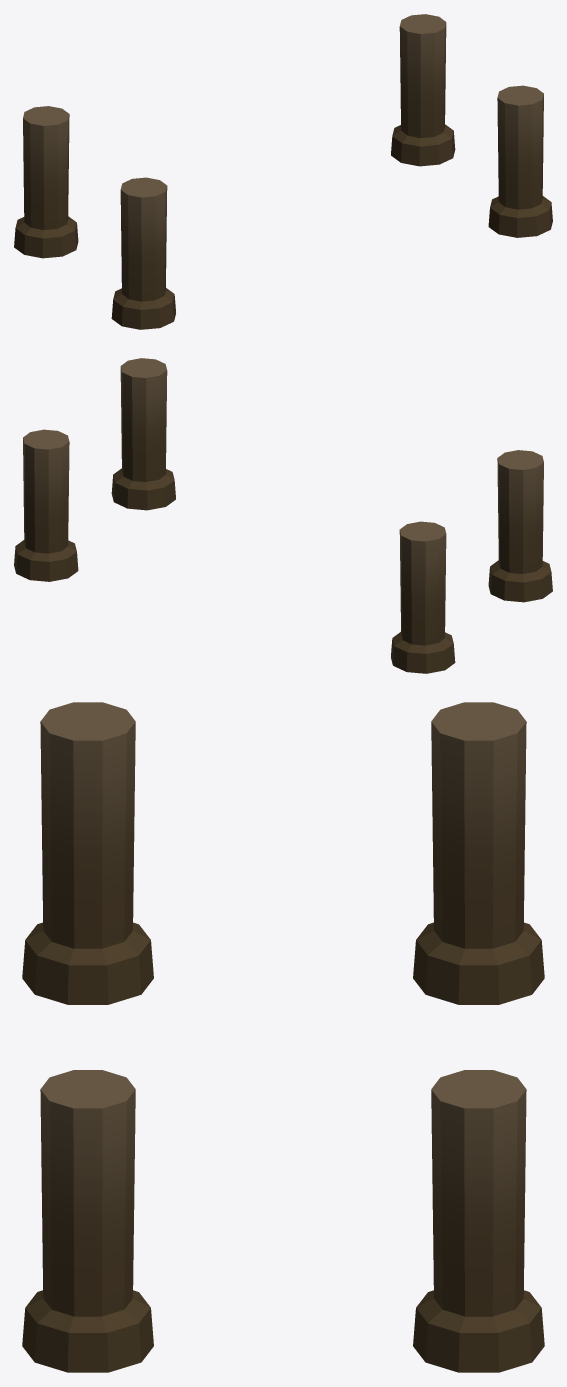
File: House_Barn_BasePillar.fbx
The picture shows the model from 3 angles, top to bottom: view 1: azimuth 30°, elevation 25°; view 2: azimuth 150°, elevation 25°; view 3: azimuth 270°, elevation 25°; orthographic projection. The views are drawn at different scales.
Parts seen in each view (by area): view 1: House_Barn_BasePillar; view 2: House_Barn_BasePillar; view 3: House_Barn_BasePillar.
Boxes of the visible parts, x1,y1,x2,y2 form: House_Barn_BasePillar: (14, 14, 552, 329); House_Barn_BasePillar: (14, 358, 552, 673); House_Barn_BasePillar: (22, 702, 544, 1372).
Bounding box in the file's own units: 4.57 × 1.3 × 2.4.
1 material, 1 textured.
